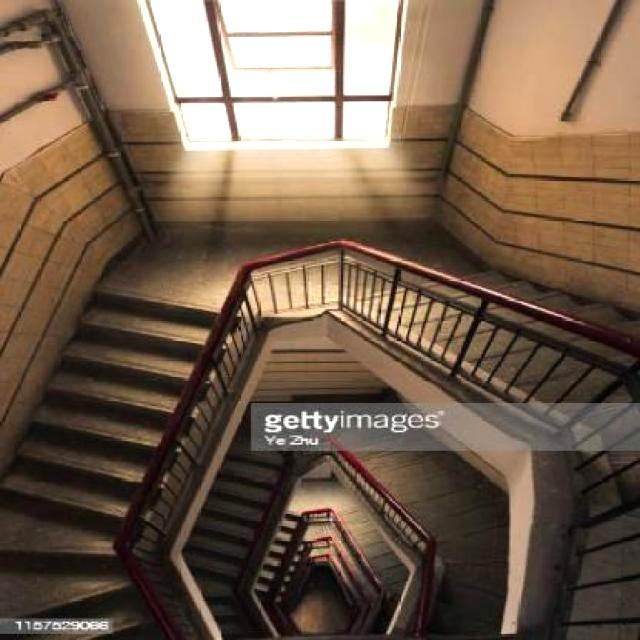stair: (4, 116, 638, 639)
